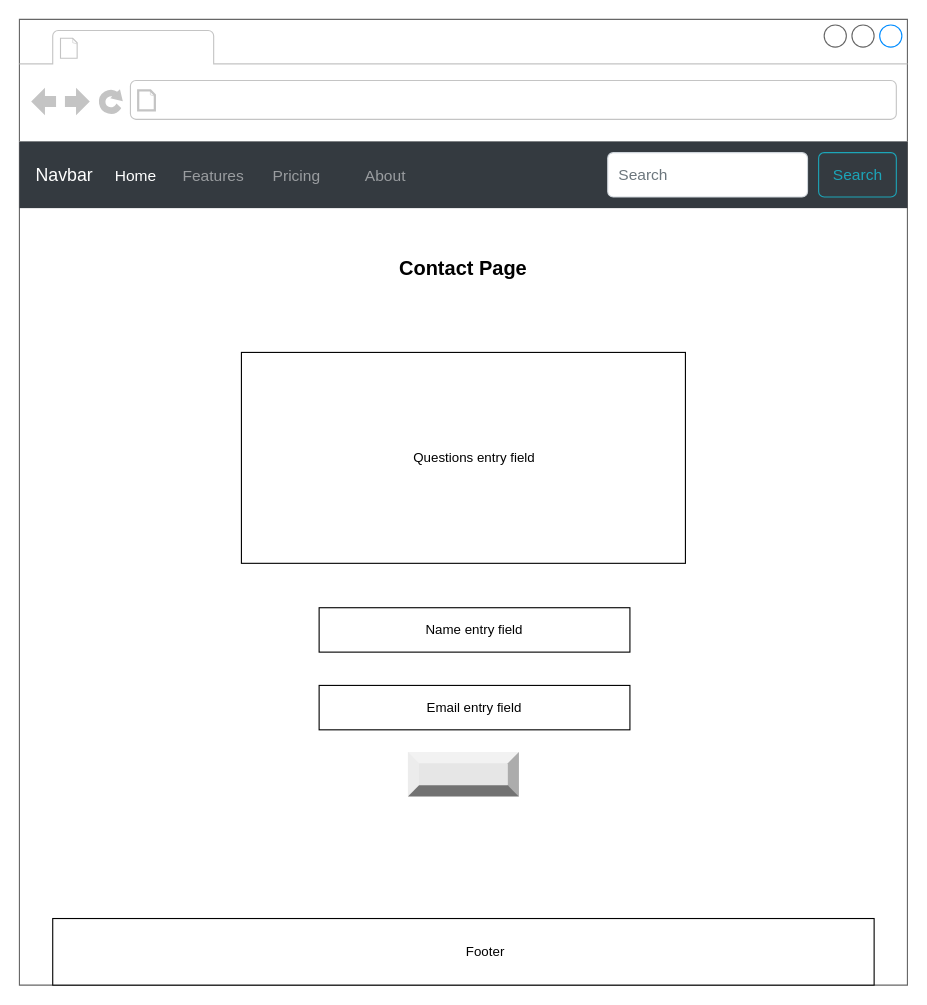
The diagram is 927 pixels wide and 1005 high, and some of its shapes have lost their labels. Here are the shapes that lost their labels. From the top down, the centre of each, then its label:
At (x=146, y=47): "Page 1".
At (x=302, y=100): "https://www.draw.io".
At (x=462, y=773): "Submit".
